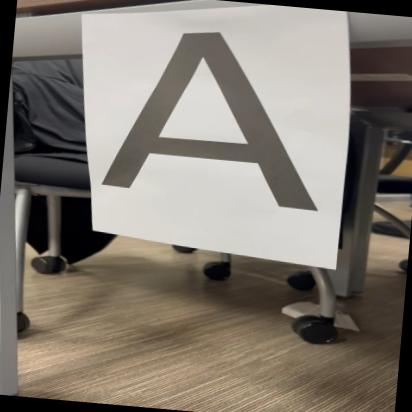seat: (92, 15, 352, 226)
